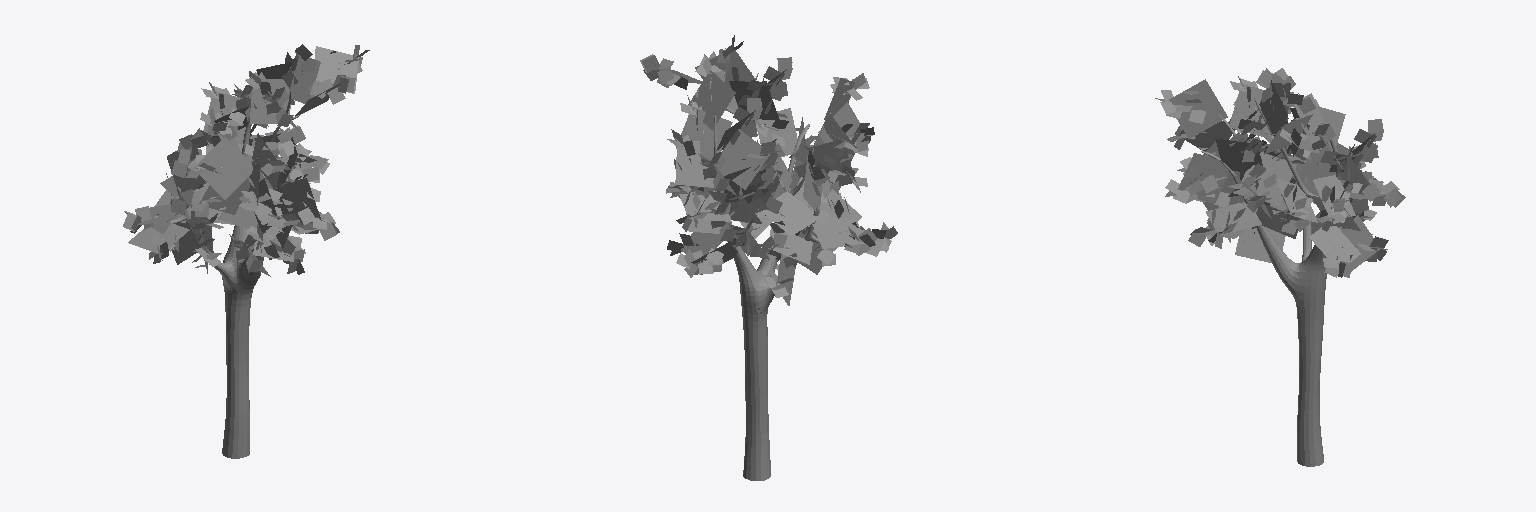
Rendered from arbol.obj.
The picture shows the model from 3 angles: view 1: azimuth 30°, elevation 25°; view 2: azimuth 150°, elevation 25°; view 3: azimuth 270°, elevation 25°; orthographic projection.
Parts seen in each view (by area): view 1: Tree_Body_Mesh, Brach007_Mesh.111, Brach036_Mesh.441, Brach001_Mesh.011, Brach034_Mesh.421, Brach029_Mesh.271, Brach037_Mesh.321, Brach006_Mesh.061, Brach025_Mesh.361, Brach031_Mesh.291, Brach016_Mesh.191, Brach005_Mesh.051; view 2: Tree_Body_Mesh, Brach018_Mesh.091, Brach020_Mesh.251, Brach032_Mesh.301, Brach019_Mesh.101, Brach030_Mesh.281, Brach015_Mesh.181, Brach006_Mesh.061, Brach009_Mesh.221, Brach034_Mesh.421, Brach024_Mesh.241, Brach039_Mesh.341 (+3 smaller); view 3: Tree_Body_Mesh, Brach005_Mesh.051, Brach001_Mesh.011, Brach022_Mesh.081, Brach045_Mesh.001, Brach040_Mesh.141, Brach033_Mesh.311, Brach042_Mesh.451, Brach009_Mesh.221, Brach023_Mesh.231, Brach037_Mesh.321, Brach004_Mesh.041 (+5 smaller).
Part boxes in pixels (bbox=[...]): Tree_Body_Mesh: bbox=[124, 81, 318, 458]; Brach007_Mesh.111: bbox=[193, 137, 252, 199]; Brach036_Mesh.441: bbox=[315, 46, 358, 93]; Brach001_Mesh.011: bbox=[277, 178, 321, 224]; Brach034_Mesh.421: bbox=[250, 79, 290, 123]; Brach029_Mesh.271: bbox=[128, 223, 189, 253]; Brach037_Mesh.321: bbox=[288, 55, 320, 103]; Brach006_Mesh.061: bbox=[199, 167, 249, 214]; Brach025_Mesh.361: bbox=[172, 217, 200, 264]; Brach031_Mesh.291: bbox=[167, 143, 206, 197]; Brach016_Mesh.191: bbox=[203, 91, 245, 144]; Brach005_Mesh.051: bbox=[252, 133, 279, 190]; Tree_Body_Mesh: bbox=[714, 73, 851, 480]; Brach018_Mesh.091: bbox=[719, 129, 769, 189]; Brach020_Mesh.251: bbox=[688, 70, 735, 130]; Brach032_Mesh.301: bbox=[758, 191, 819, 236]; Brach019_Mesh.101: bbox=[676, 107, 732, 160]; Brach030_Mesh.281: bbox=[812, 217, 864, 248]; Brach015_Mesh.181: bbox=[675, 140, 713, 187]; Brach006_Mesh.061: bbox=[808, 139, 855, 186]; Brach009_Mesh.221: bbox=[755, 108, 797, 157]; Brach034_Mesh.421: bbox=[729, 81, 779, 119]; Brach024_Mesh.241: bbox=[768, 227, 812, 264]; Brach039_Mesh.341: bbox=[679, 194, 731, 221]; Tree_Body_Mesh: bbox=[1201, 98, 1340, 466]; Brach005_Mesh.051: bbox=[1169, 79, 1227, 138]; Brach001_Mesh.011: bbox=[1178, 153, 1228, 203]; Brach022_Mesh.081: bbox=[1309, 226, 1360, 269]; Brach045_Mesh.001: bbox=[1239, 152, 1296, 205]; Brach040_Mesh.141: bbox=[1235, 227, 1285, 262]; Brach033_Mesh.311: bbox=[1229, 84, 1271, 138]; Brach042_Mesh.451: bbox=[1206, 202, 1261, 235]; Brach009_Mesh.221: bbox=[1215, 138, 1262, 171]; Brach023_Mesh.231: bbox=[1340, 215, 1379, 271]; Brach037_Mesh.321: bbox=[1259, 80, 1287, 136]; Brach004_Mesh.041: bbox=[1179, 121, 1234, 151].
Bounding box in the file's own units: 27.02 × 44.18 × 24.35.